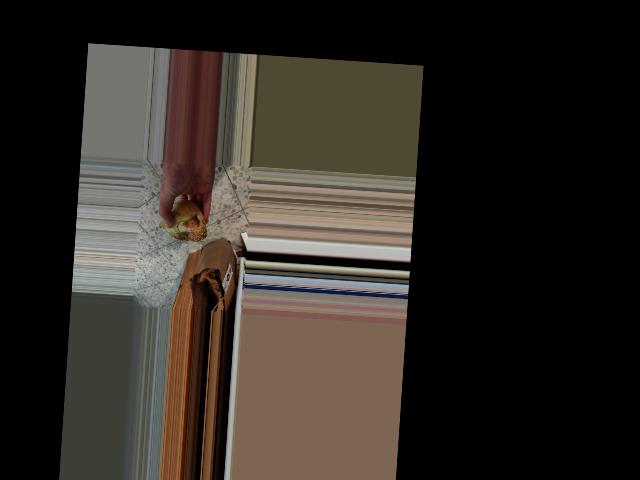onion: (161, 195, 208, 246)
